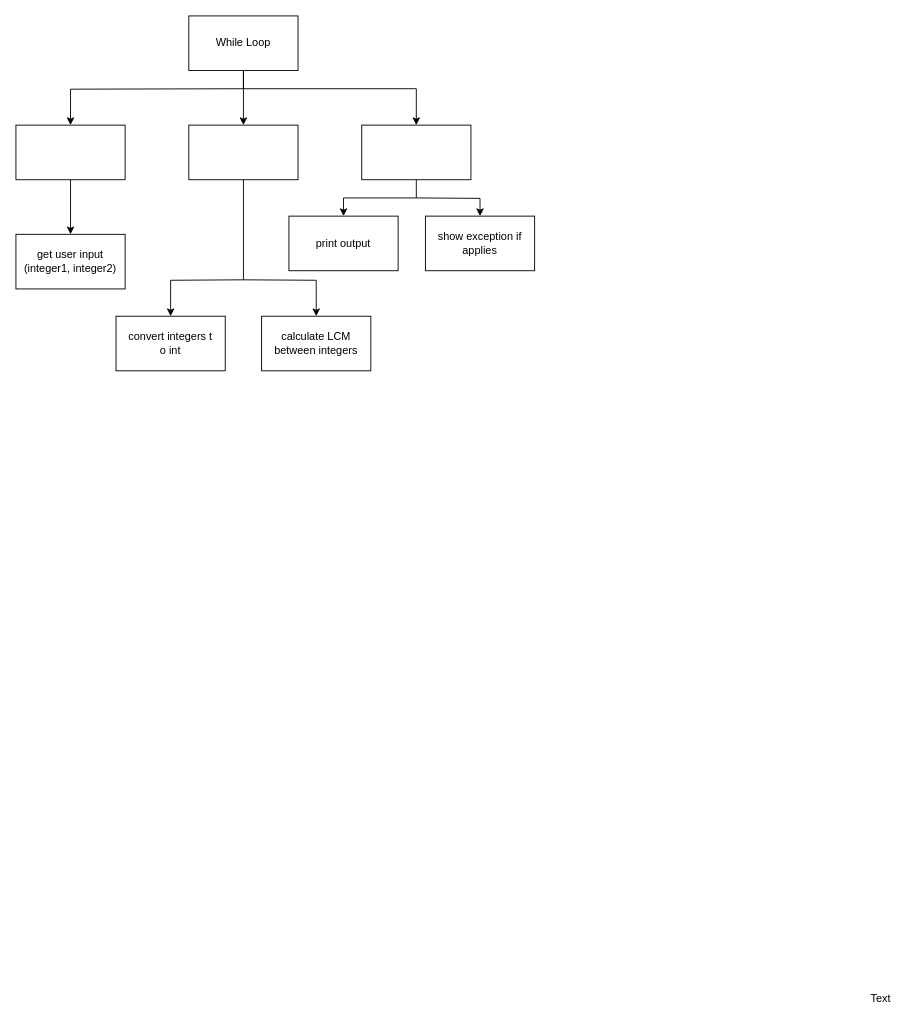
The diagram is 915 pixels wide and 1024 high, and some of its shapes have lost their labels. The shapes that lost their labels are listed below. From the top down, each one's box as (x1, y1, x2, y2) in pixels, then its label:
(15, 124, 125, 180): Input
(188, 124, 298, 180): Process
(361, 124, 471, 180): Output
